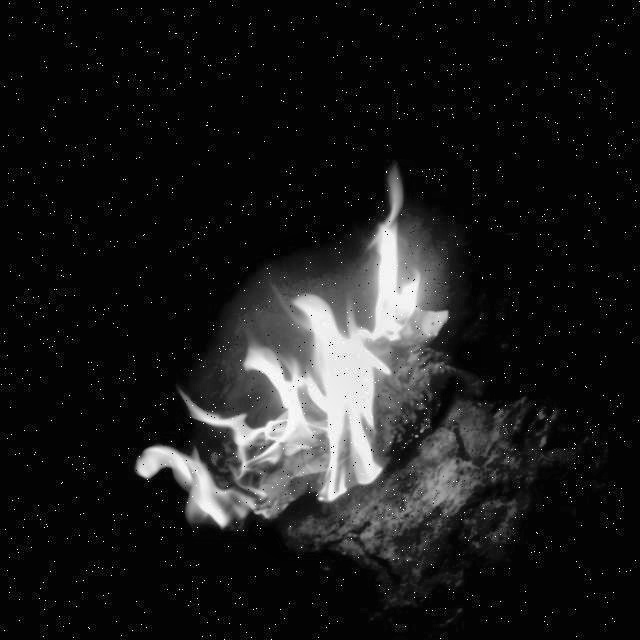Fire: (102, 128, 560, 611)
